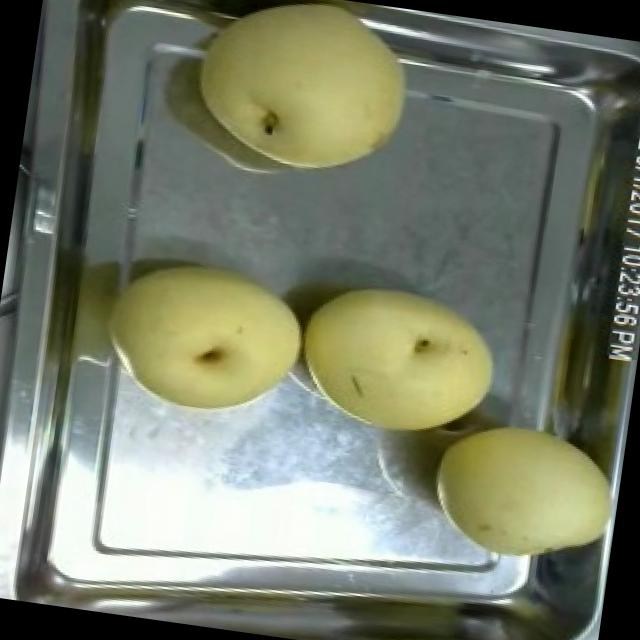Fruit: (174, 0, 431, 197), (93, 239, 322, 434), (282, 266, 514, 456), (415, 403, 628, 584)
